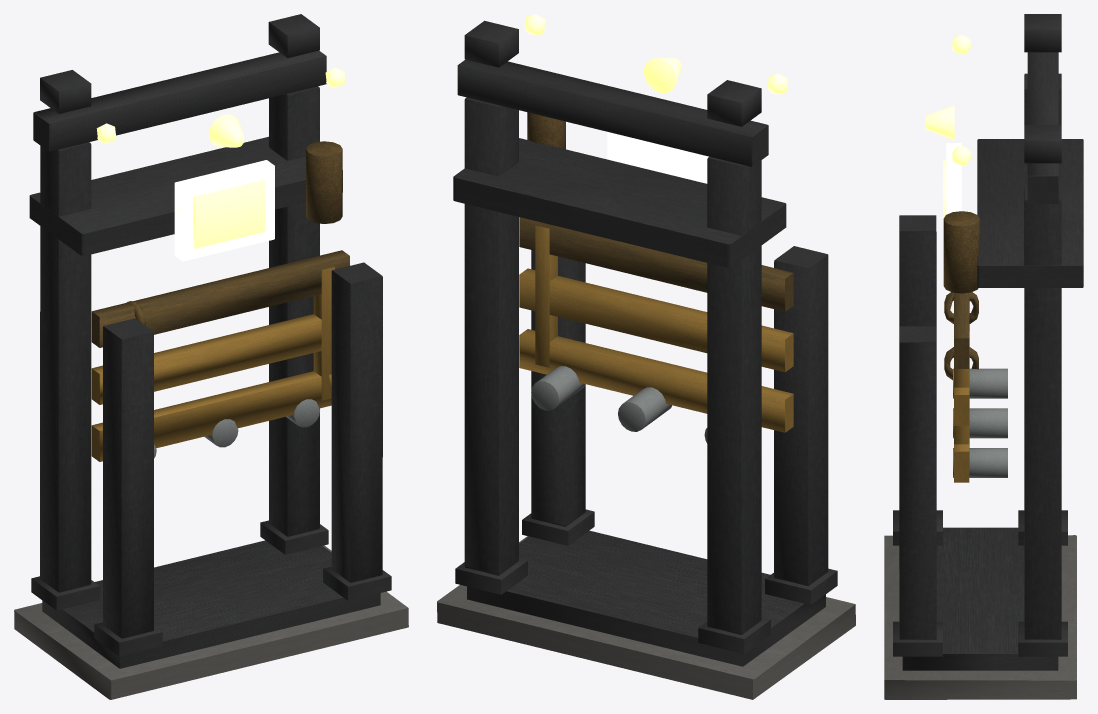
File: hp_room_l08_p03.glb
3 views of the same model, side by side, from view 1: azimuth 30°, elevation 25°; view 2: azimuth 150°, elevation 25°; view 3: azimuth 270°, elevation 25° (orthographic). The views are drawn at different scales.
Visible parts, largest first — view 1: room_l08_p03; view 2: room_l08_p03; view 3: room_l08_p03.
Boxes of the visible parts, box(x1,y1,x2,y2) form: room_l08_p03: box(14, 14, 408, 699); room_l08_p03: box(437, 14, 855, 699); room_l08_p03: box(884, 14, 1083, 699).
Bounding box in the file's own units: 1.1 × 1.94 × 0.6377.
9 materials, 6 textured.
